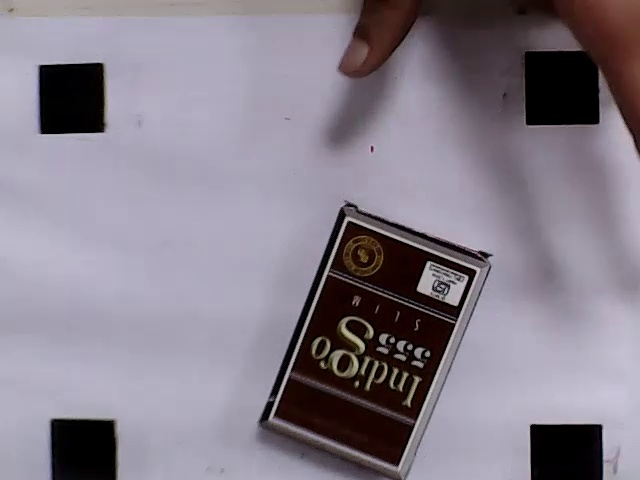BEX: (272, 218, 479, 470)
